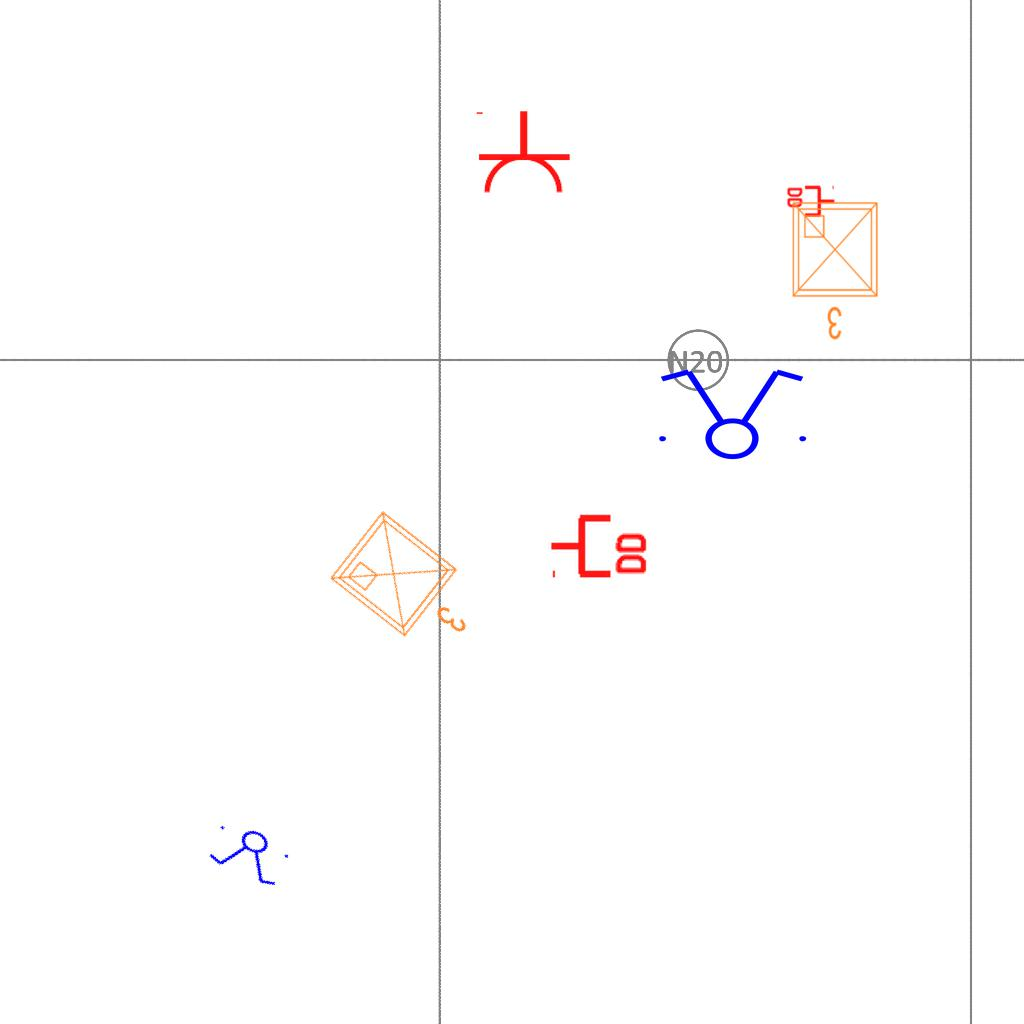Datenanschluss_zweifach: (548, 510, 651, 579), (785, 185, 836, 219)
Einbaudownlights_LED_Konferenzraeume: (319, 497, 503, 673), (785, 195, 889, 345)
Schukosteckdose_einfach: (472, 109, 572, 196)
Serienschalter: (647, 365, 815, 461), (201, 814, 299, 894)
